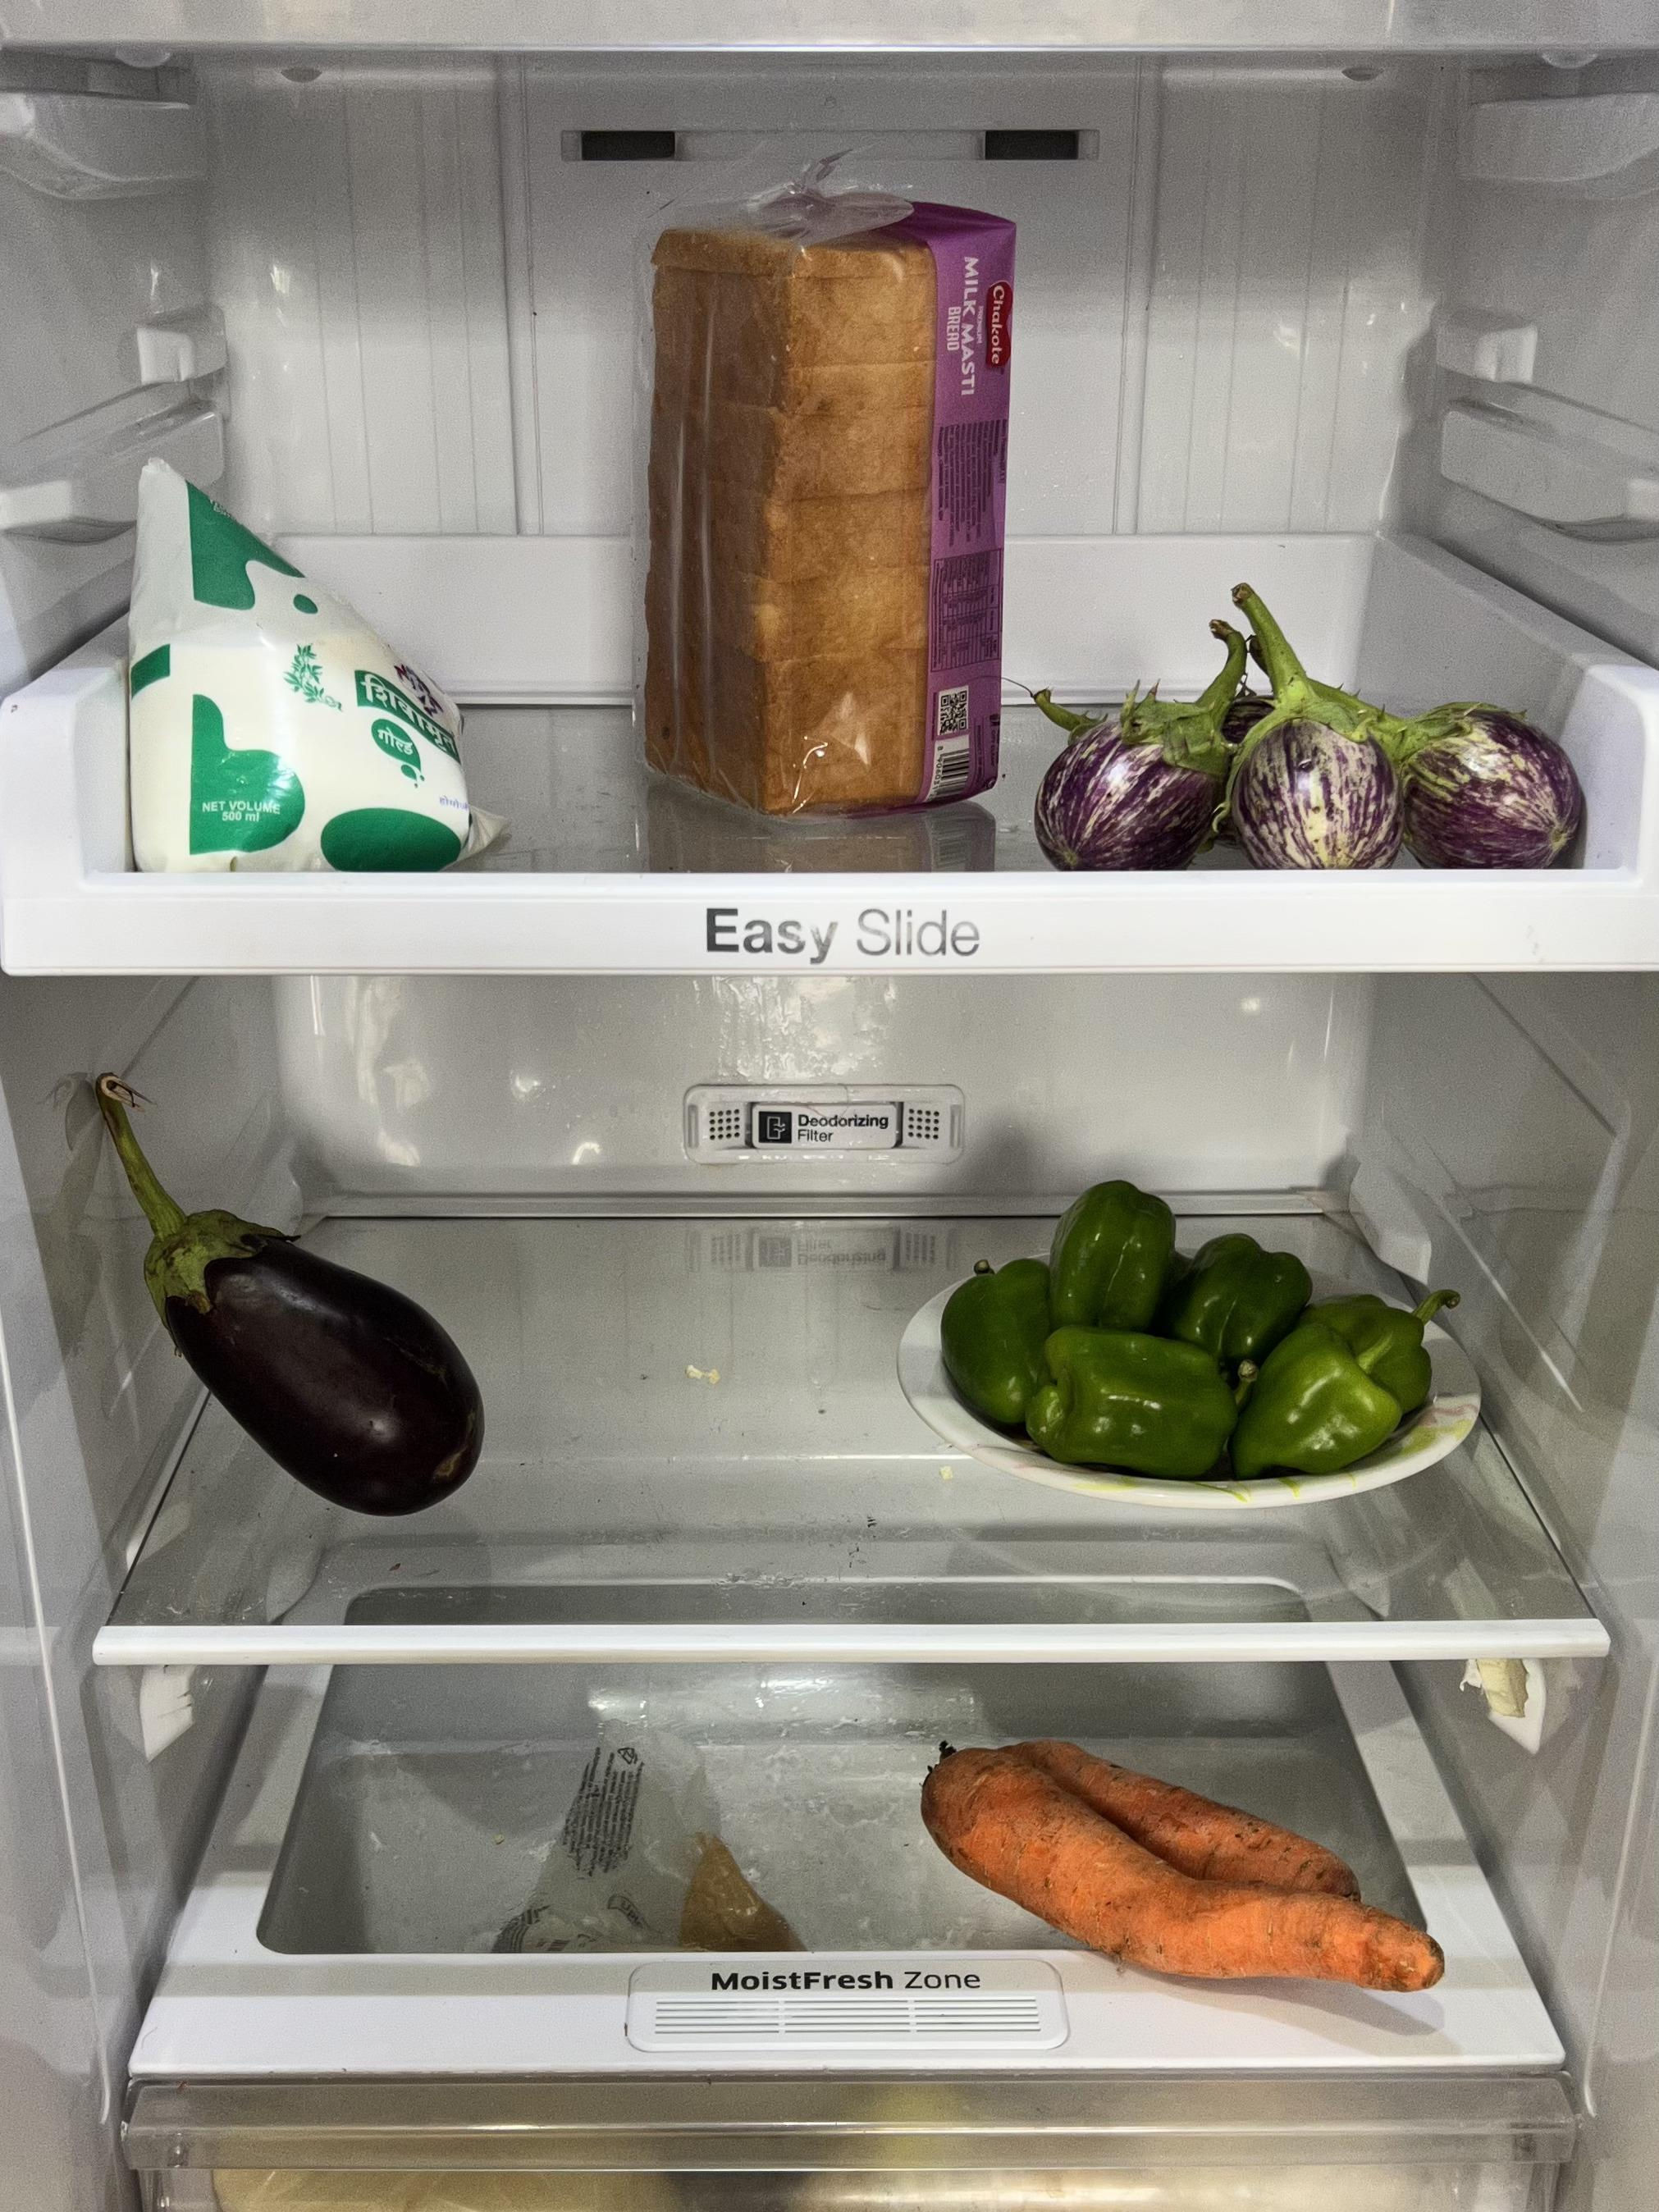bread: (636, 160, 1025, 824)
bringal: (108, 1097, 484, 1524), (1039, 639, 1582, 869)
capsicum: (941, 1174, 1445, 1475)
carrots: (924, 1735, 1445, 1994)
milk: (118, 451, 483, 864)
